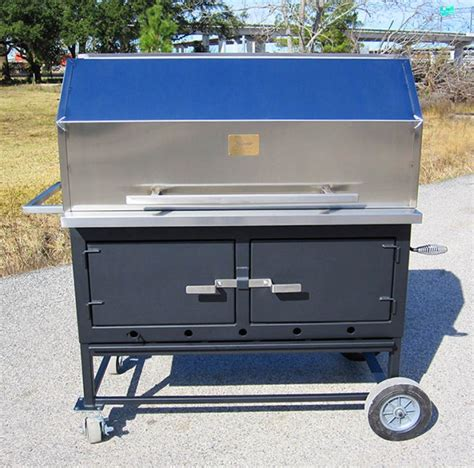Carts: (22, 48, 451, 443)
